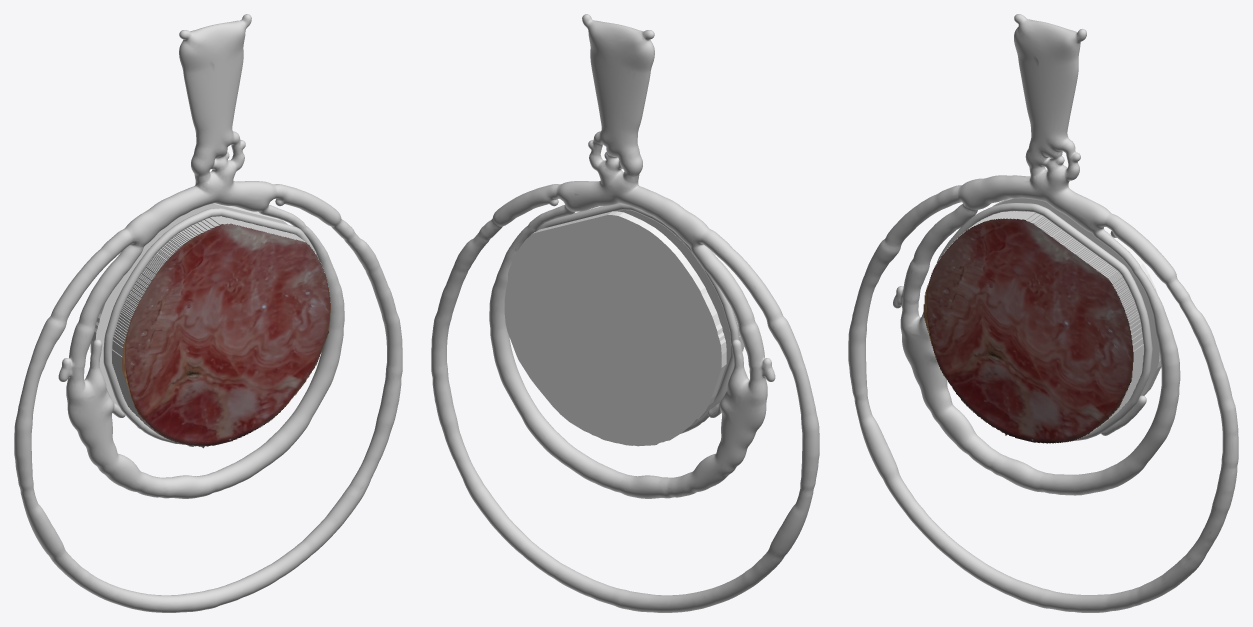
The picture shows the model from 3 angles, left to right: view 1: azimuth 30°, elevation 25°; view 2: azimuth 150°, elevation 25°; view 3: azimuth 330°, elevation 25°; orthographic projection.
Visible parts, largest first — view 1: joya; view 2: joya; view 3: joya.
Boxes of the visible parts, x1,y1,x2,y2 form: joya: (14,14,402,612); joya: (431,14,819,612); joya: (848,14,1238,612).
Bounding box in the file's own units: 0.0266 × 0.0385 × 0.00325.
Materials: 3 (1 with a texture image).
